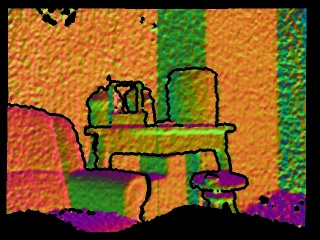station: (107, 80, 146, 126)
